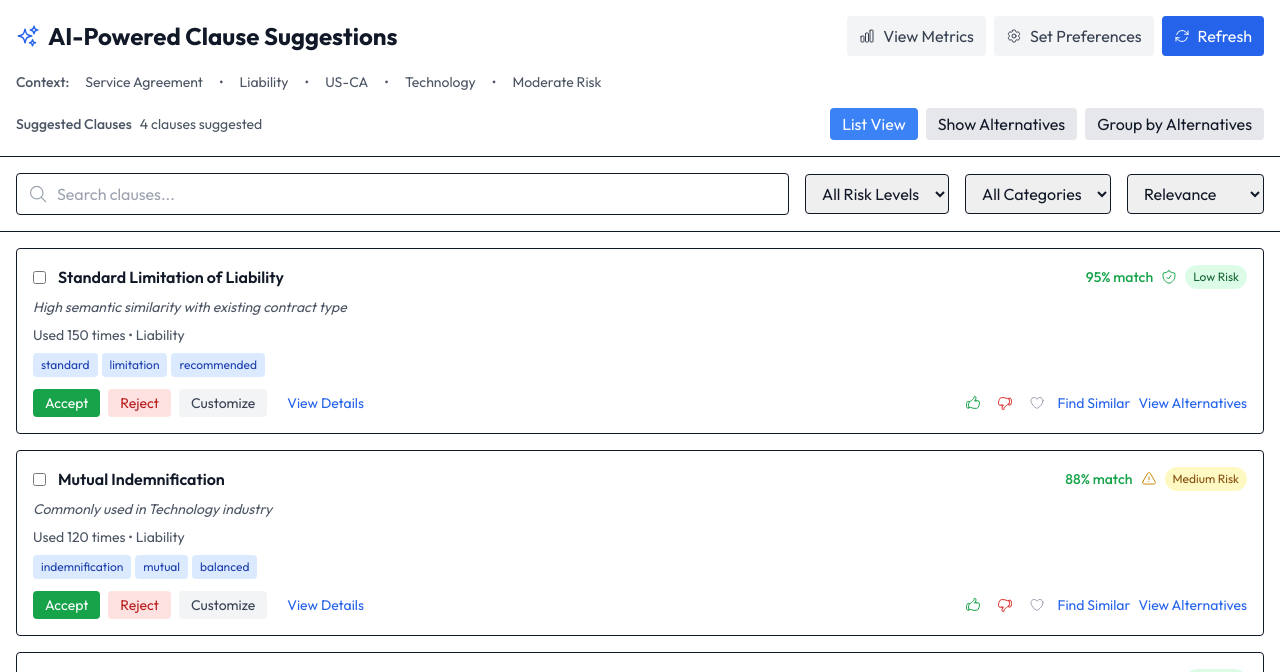
ClauseSuggestions › Similar Clauses › should find similar clauses
Click the button "Find Similar" below "95" at (1094, 403), box top-left (1058, 393), bottom-right (1130, 413)
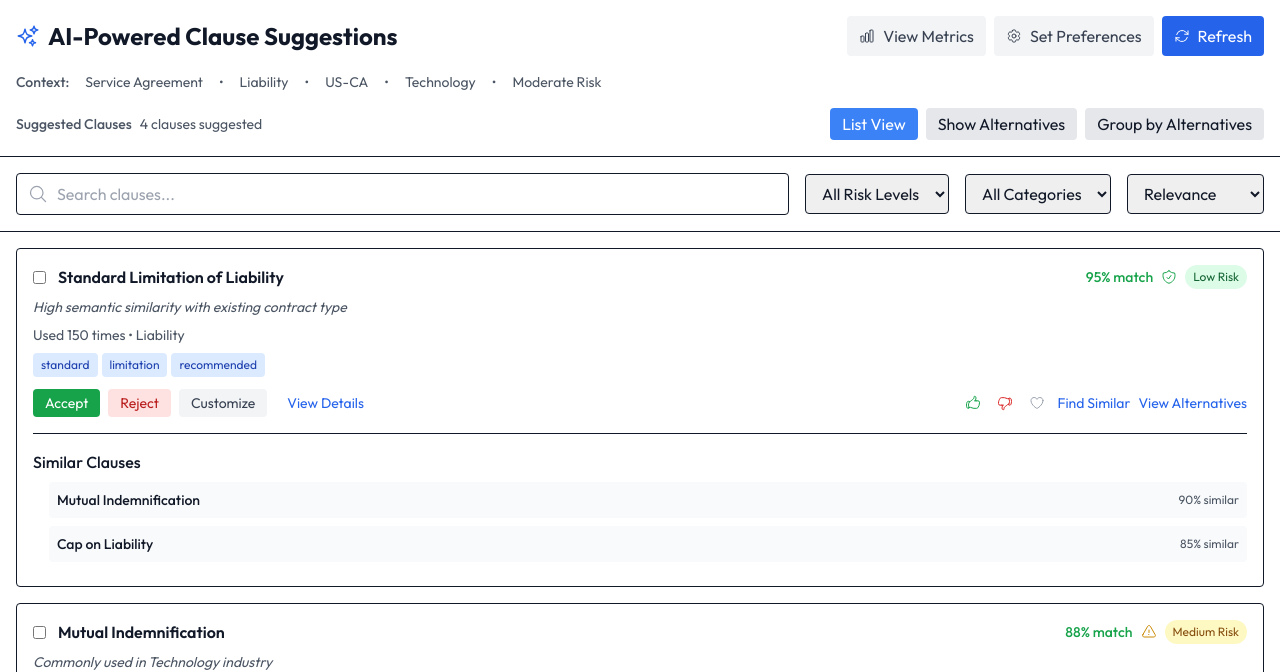
Now the heading "Similar Clauses" is shown, box top-left (33, 452), bottom-right (141, 472)
